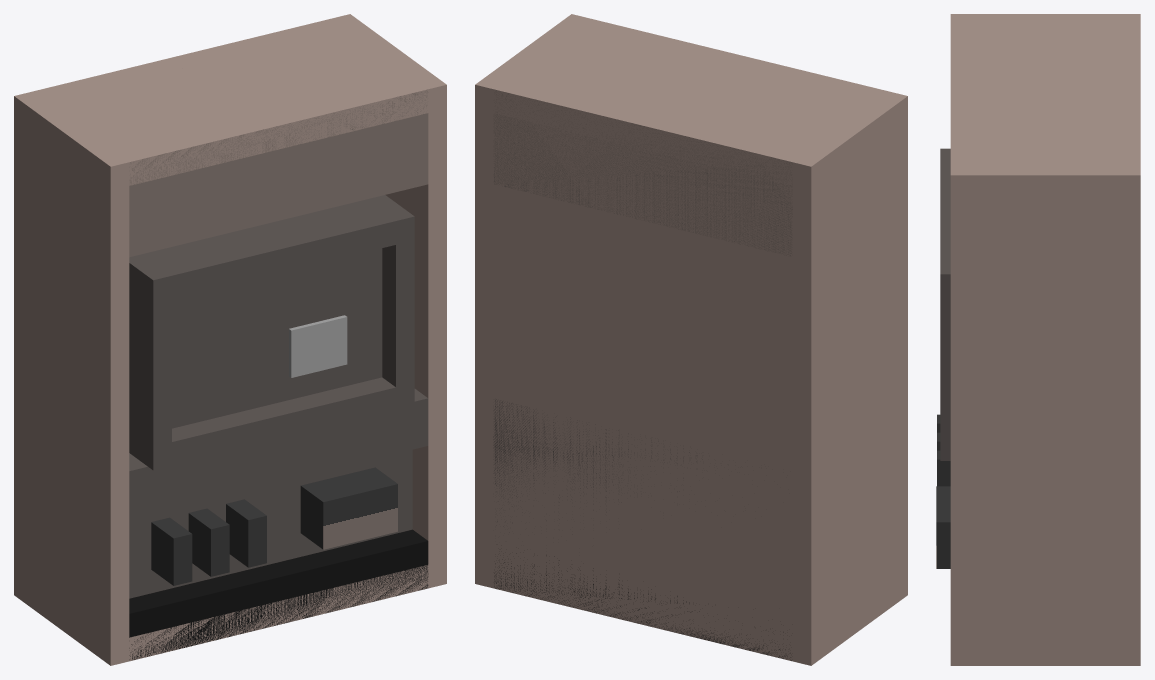
Rendered from CMU3DDropshipNavigationCloudNorth.glb.
3 renders of one model, left to right at view 1: azimuth 30°, elevation 25°; view 2: azimuth 150°, elevation 25°; view 3: azimuth 270°, elevation 25°, orthographic.
Visible parts, largest first — view 1: left full depth casing, case roof, upper terminal cap, back inset cover, terminal lower rail, right full depth casing, recessed display housing top, display lower apron, rear port supporting panel, recessed display housing bottom, case floor, recessed display housing left (+8 smaller); view 2: cabinet rear, left full depth casing, case roof, upper terminal cap, right full depth casing, case floor, display lower apron, terminal lower rail, rear port supporting panel; view 3: right full depth casing, case roof, cabinet rear, left full depth casing, recessed display housing top, recessed display housing right, rear connection port substrate, back connector 14.
Part boxes in pixels (x1,y1,x2,y2): left full depth casing: (14,91,129,665); case roof: (34,18,428,185); upper terminal cap: (129,89,428,257); back inset cover: (172,248,382,428); terminal lower rail: (129,529,428,660); right full depth casing: (332,14,446,588); recessed display housing top: (129,195,414,303); display lower apron: (129,389,428,518); rear port supporting panel: (129,449,412,598); recessed display housing bottom: (129,377,414,470); case floor: (129,565,428,661); recessed display housing left: (129,287,171,446); cabinet rear: (493,79,805,661); left full depth casing: (792,91,907,665); case roof: (493,18,888,185); upper terminal cap: (493,90,792,256); right full depth casing: (475,14,589,588); case floor: (493,567,792,661); display lower apron: (493,399,702,478); terminal lower rail: (494,553,791,660); rear port supporting panel: (493,446,679,534); right full depth casing: (950,166,1140,665); case roof: (950,23,1140,166); cabinet rear: (1113,23,1140,166); left full depth casing: (950,14,1140,22); recessed display housing top: (940,148,950,297); recessed display housing right: (940,297,950,437); rear connection port substrate: (937,486,950,568); back connector 14: (937,450,950,486).
Size of the model in its own units: 0.5625 by 0.798 by 0.301.
Materials: 8 (2 with a texture image).
